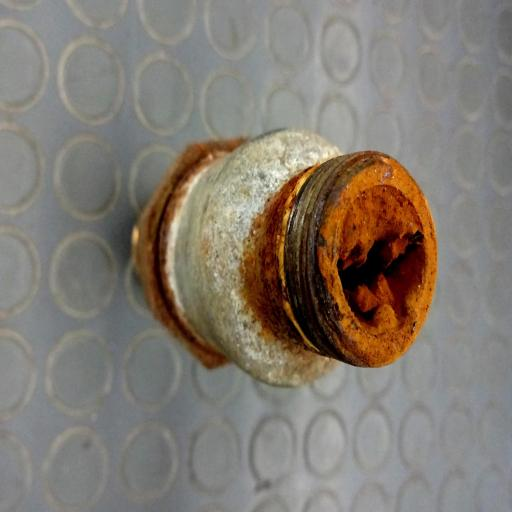segmentation: (264, 152, 437, 367), (132, 137, 248, 368), (239, 168, 312, 345)
